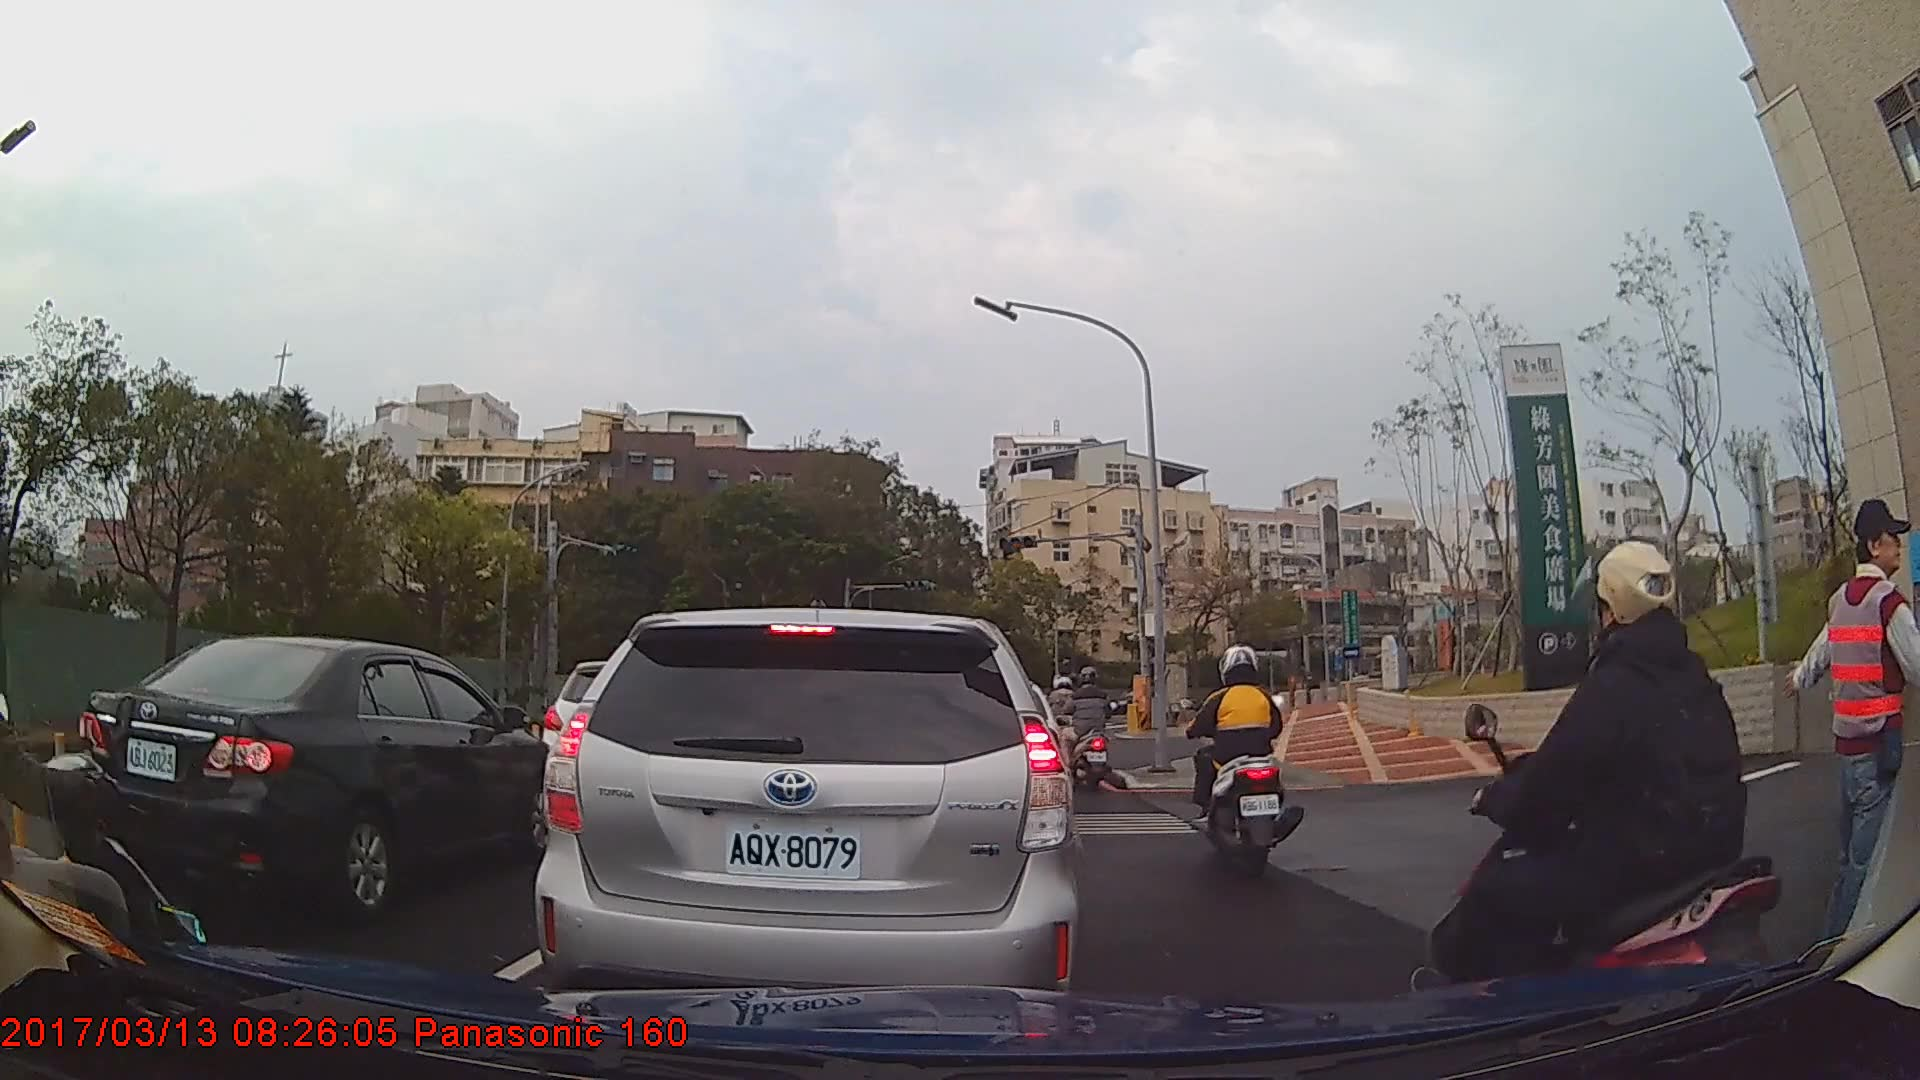pedestrian: (1763, 497, 1920, 978)
rider: (1423, 542, 1791, 1077), (1190, 642, 1307, 891), (1065, 670, 1118, 792)
vehicle: (534, 605, 1083, 1023), (75, 634, 573, 919)
